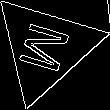M_E: (14, 18, 77, 77)
